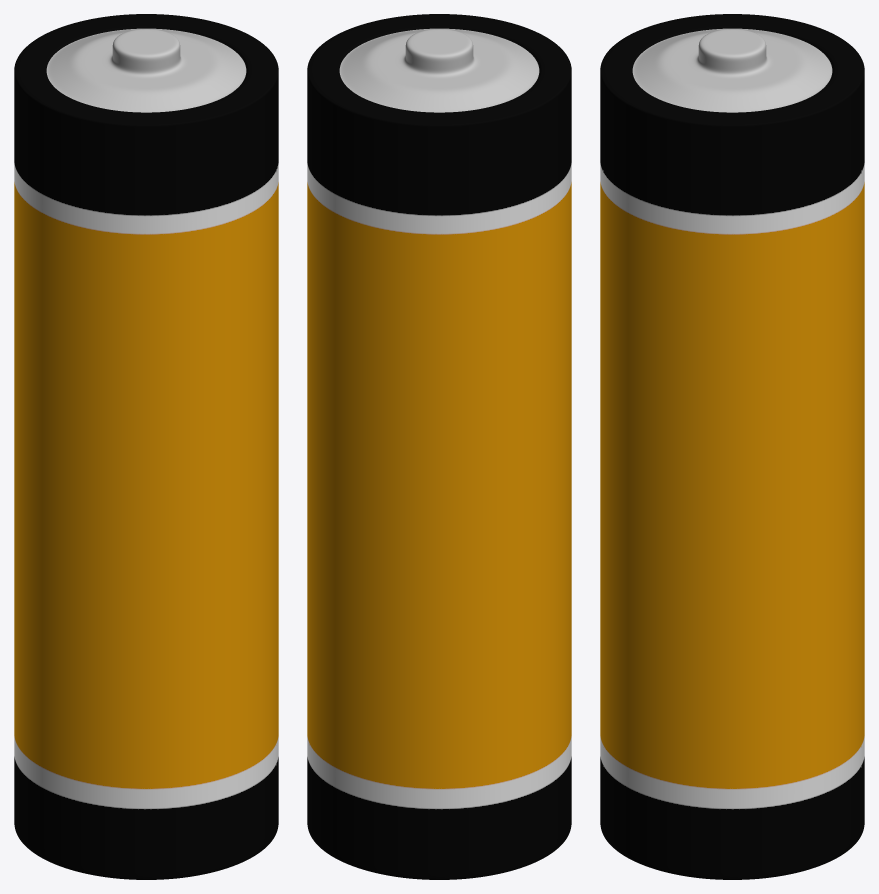
The model's file is pila.fbx.
3 renders of one model, left to right at view 1: azimuth 30°, elevation 25°; view 2: azimuth 150°, elevation 25°; view 3: azimuth 270°, elevation 25°, orthographic.
Visible parts, largest first — view 1: Cilindro; view 2: Cilindro; view 3: Cilindro.
Boxes of the visible parts, x1=… form: Cilindro: x1=14, y1=14, x2=278, y2=879; Cilindro: x1=307, y1=14, x2=571, y2=879; Cilindro: x1=600, y1=14, x2=864, y2=879.
Bounding box in the file's own units: 18.27 × 60.78 × 18.27.
Materials: 1 (1 with a texture image).
